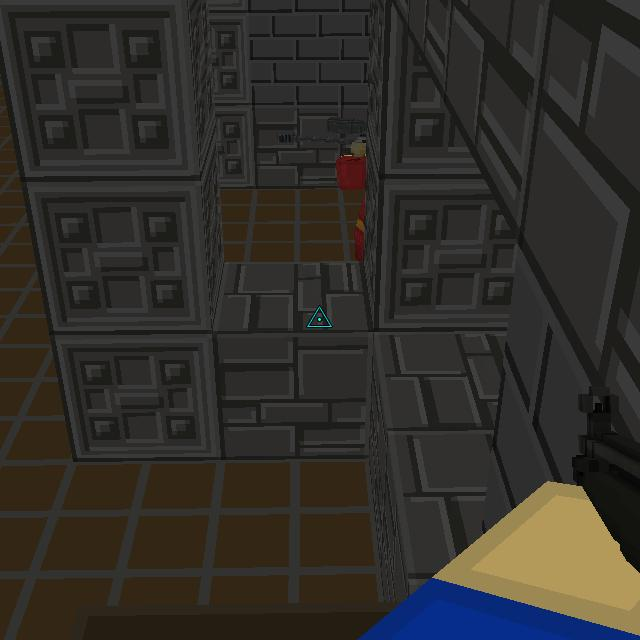enemy: (336, 130, 370, 266)
